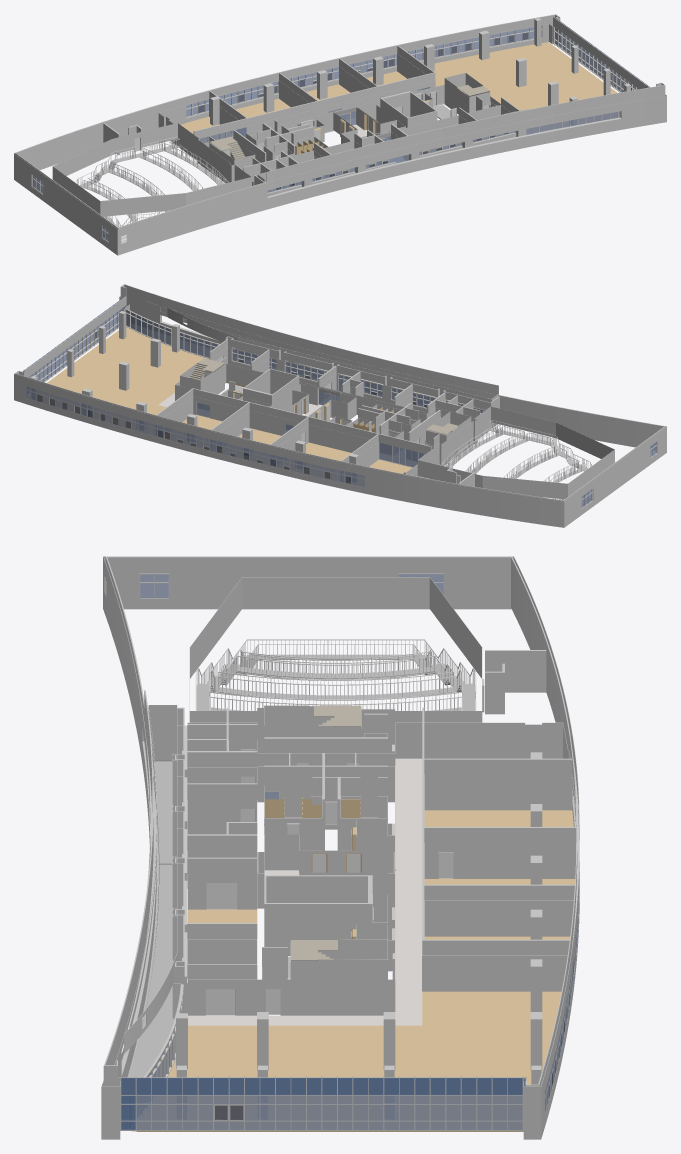
3 renders of one model, top to bottom at view 1: azimuth 30°, elevation 25°; view 2: azimuth 150°, elevation 25°; view 3: azimuth 270°, elevation 25°, orthographic. The views are drawn at different scales.
Visible parts, largest first — view 1: A8_7F_Wall, A8_7F_Floor, A8_7F_WindowGlass, A8_7F_WindowFrame, A8_7F_HighFence, A8_7F_Pillar, A8_7F_Door, A8_7F_Stair, A8_7F_Elev.; view 2: A8_7F_Wall, A8_7F_Floor, A8_7F_WindowGlass, A8_7F_WindowFrame, A8_7F_HighFence, A8_7F_Pillar, A8_7F_Door, A8_7F_Stair, A8_7F_Elev.; view 3: A8_7F_Wall, A8_7F_Floor, A8_7F_WindowGlass, A8_7F_HighFence, A8_7F_WindowFrame, A8_7F_Pillar, A8_7F_Door, A8_7F_Stair, A8_7F_Partition, A8_7F_Elev..
Boxes of the visible parts, bbox=[...] form: A8_7F_Wall: bbox=[14, 14, 666, 255]; A8_7F_Floor: bbox=[170, 42, 619, 190]; A8_7F_WindowGlass: bbox=[186, 17, 649, 192]; A8_7F_WindowFrame: bbox=[32, 16, 648, 242]; A8_7F_HighFence: bbox=[75, 136, 228, 236]; A8_7F_Pillar: bbox=[210, 18, 630, 125]; A8_7F_Door: bbox=[134, 86, 496, 163]; A8_7F_Stair: bbox=[210, 84, 489, 159]; A8_7F_Elev.: bbox=[314, 100, 429, 140]; A8_7F_Wall: bbox=[14, 284, 666, 527]; A8_7F_Floor: bbox=[28, 323, 497, 485]; A8_7F_WindowGlass: bbox=[25, 297, 484, 487]; A8_7F_WindowFrame: bbox=[23, 296, 657, 508]; A8_7F_HighFence: bbox=[422, 420, 592, 505]; A8_7F_Pillar: bbox=[30, 311, 358, 481]; A8_7F_Door: bbox=[197, 355, 460, 483]; A8_7F_Stair: bbox=[189, 358, 458, 434]; A8_7F_Elev.: bbox=[232, 390, 347, 425]; A8_7F_Wall: bbox=[101, 556, 579, 1139]; A8_7F_Floor: bbox=[127, 758, 575, 1131]; A8_7F_WindowGlass: bbox=[121, 879, 579, 1129]; A8_7F_HighFence: bbox=[195, 639, 476, 710]; A8_7F_WindowFrame: bbox=[120, 573, 579, 1130]; A8_7F_Pillar: bbox=[176, 752, 542, 1118]; A8_7F_Door: bbox=[205, 679, 484, 1015]; A8_7F_Stair: bbox=[291, 705, 361, 961]; A8_7F_Partition: bbox=[264, 797, 360, 817]; A8_7F_Elev.: bbox=[311, 827, 361, 939].
Bounding box in the file's own units: 89.2 × 7.83 × 34.02.
